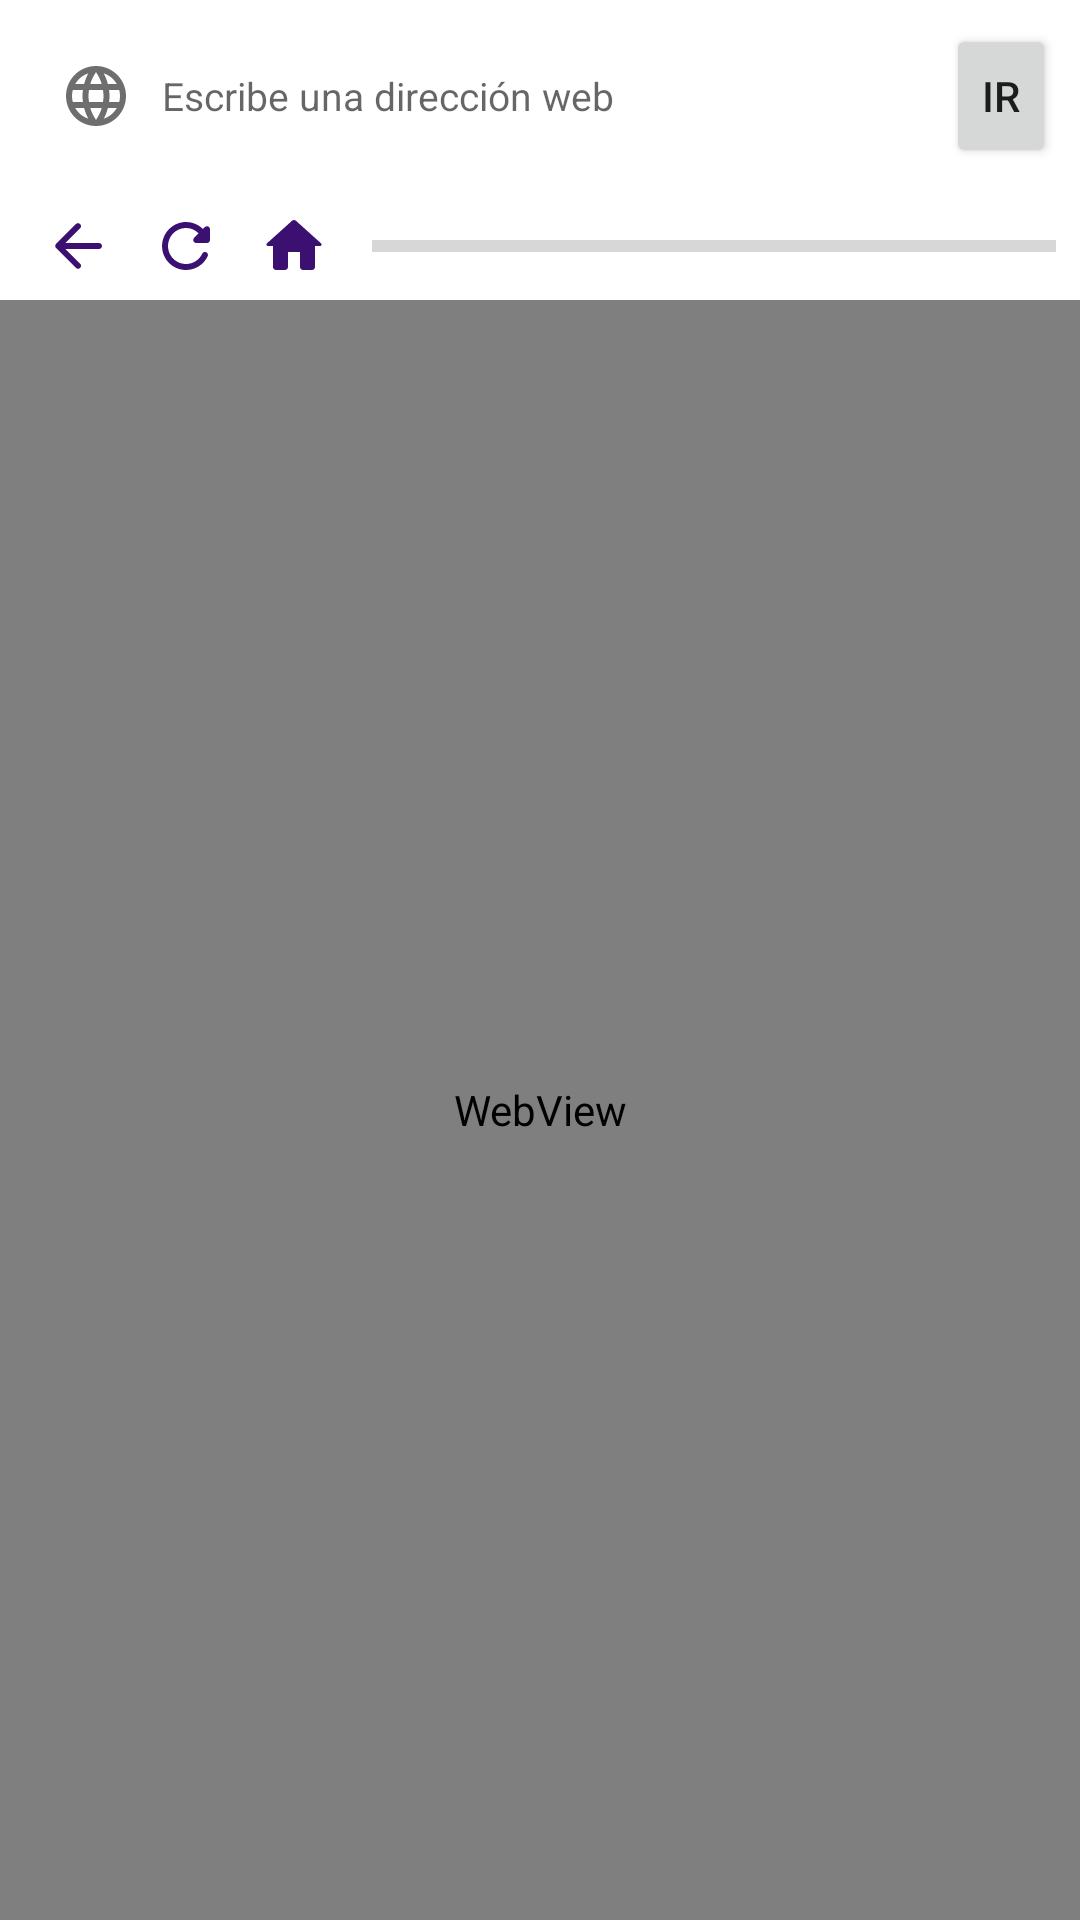

Icons on this 1080 x 1920 Android screen, each with its box as rect(x1, y1, x2, y2):
arrow back: rect(55, 223, 102, 269)
home: rect(266, 220, 322, 270)
refresh: rect(162, 222, 210, 270)
